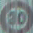Speed limit: (1, 3, 32, 30)
